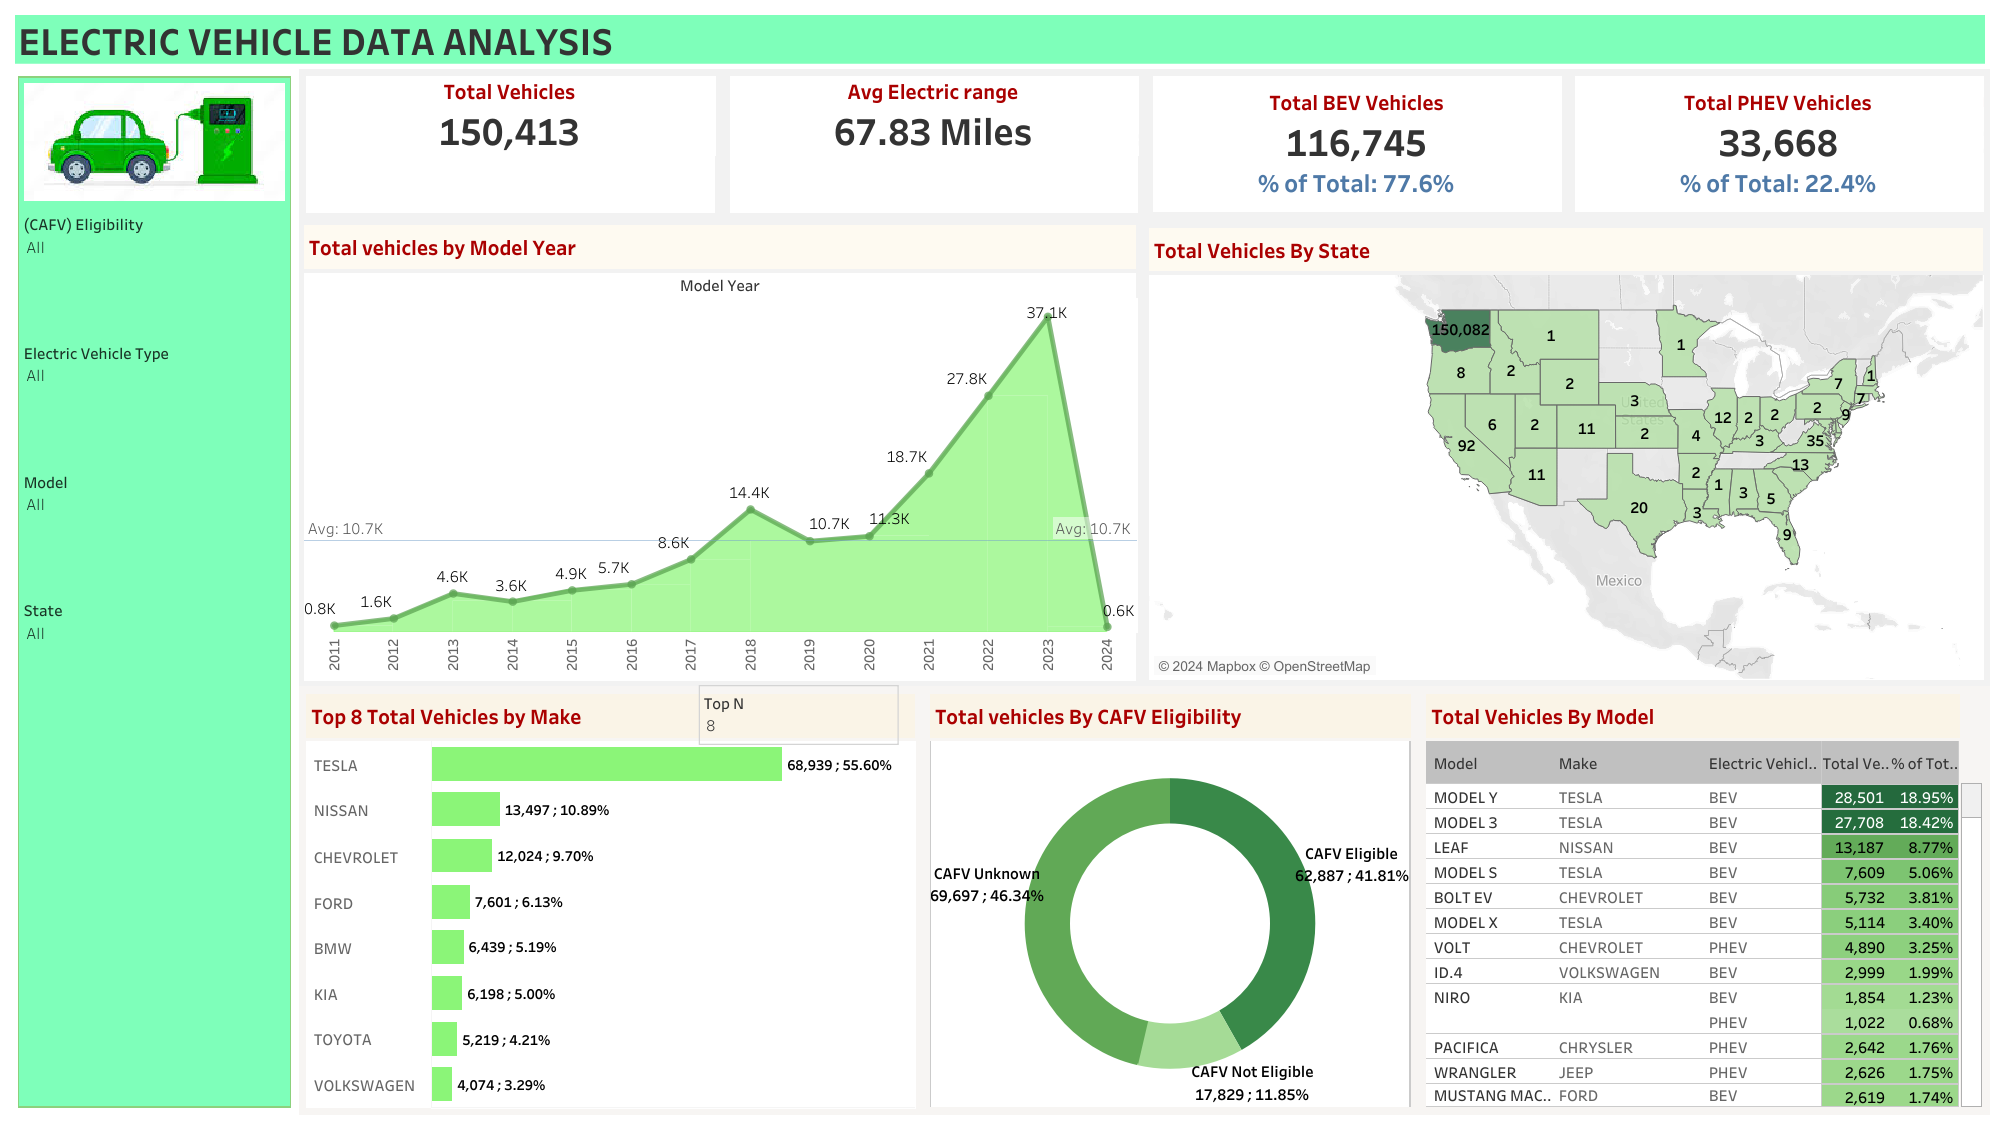

Layout of this report page (visuals, bound fields, positions):
{"tool":"tableau","page":{"name":"Dashboard 3","canvas":[1600,900],"ordinal":0},"visuals":[{"type":"title","box":[8,8,1584,47]},{"type":"worksheet","title":"Total Vehicles","mark":"Automatic","box":[239,55,339,121]},{"type":"worksheet","title":"Avg Electric Range","mark":"Automatic","box":[578,55,338,121]},{"type":"worksheet","title":"Total BEV Vehicles","mark":"Automatic","box":[916,55,338,121]},{"type":"worksheet","title":"Total PHEV Vehicles ","mark":"Automatic","box":[1254,55,338,121]},{"type":"image","param":"C:/Users/lavan/OneDrive/Desktop/images.jpg","box":[15,62,217,103]},{"type":"filter","title":"Total vehicles by Model Year","param":"[federated.1bs2a3f1irxbad13ssojy13eyff1].[none:Clean Alternative Fuel Vehicle (C","box":[15,165,217,103]},{"type":"worksheet","title":"Total vehicles by Model Year","mark":"Area","rows":["Calculation_1498009863934439424","Calculation_1498009863934439424"],"cols":["Model Year"],"box":[239,175.6,674,373.7]},{"type":"worksheet","title":"Total Vehicles By State","mark":"Multipolygon","box":[913,175.6,679,373.7]},{"type":"filter","title":"Total vehicles by Model Year","param":"[federated.1bs2a3f1irxbad13ssojy13eyff1].[none:Electric Vehicle Type:nk]","box":[15,268,217,103]},{"type":"filter","title":"Total vehicles by Model Year","param":"[federated.1bs2a3f1irxbad13ssojy13eyff1].[none:Model:nk]","box":[15,371,217,103]},{"type":"filter","title":"Total vehicles by Model Year","param":"[federated.1bs2a3f1irxbad13ssojy13eyff1].[none:State:nk]","box":[15,474,217,103]},{"type":"parameter","param":"[Parameters].[Parameter 1]","box":[559,548,160,48]},{"type":"worksheet","title":"Top 10 Vehicles by Make","mark":"Automatic","rows":["Make"],"cols":["Calculation_1498009863934439424"],"box":[239,549.2,499,342.8]},{"type":"worksheet","title":"Total vehicles By CAFV Eligibility","mark":"Pie","rows":["Calculation_1116892745839951873","Calculation_1116892745839951873"],"box":[738,549.2,397,342.8]},{"type":"worksheet","title":"Total Vehicles By Model","mark":"Square","rows":["Model","Make","Electric Vehicle Type"],"box":[1135,549.2,457,342.8]},{"type":"blank","box":[15,577,217,103]},{"type":"blank","box":[15,680,217,103]},{"type":"blank","box":[15,783,217,102]}]}

Visuals, with their boxes in screenshot pixels (x1, y1, x2, y2), scaled from the page's 1600x900 canvas onto the 1999x1124 screenshot:
title: l=10, t=10, r=1989, b=69
"Total Vehicles" worksheet: l=299, t=69, r=722, b=220
"Avg Electric Range" worksheet: l=722, t=69, r=1144, b=220
"Total BEV Vehicles" worksheet: l=1144, t=69, r=1567, b=220
"Total PHEV Vehicles " worksheet: l=1567, t=69, r=1989, b=220
image: l=19, t=77, r=290, b=206
"Total vehicles by Model Year" filter: l=19, t=206, r=290, b=335
"Total vehicles by Model Year" worksheet (Area marks): l=299, t=219, r=1141, b=686
"Total Vehicles By State" worksheet (Multipolygon marks): l=1141, t=219, r=1989, b=686
"Total vehicles by Model Year" filter: l=19, t=335, r=290, b=463
"Total vehicles by Model Year" filter: l=19, t=463, r=290, b=592
"Total vehicles by Model Year" filter: l=19, t=592, r=290, b=721
parameter: l=698, t=684, r=898, b=744
"Top 10 Vehicles by Make" worksheet: l=299, t=686, r=922, b=1114
"Total vehicles By CAFV Eligibility" worksheet (Pie marks): l=922, t=686, r=1418, b=1114
"Total Vehicles By Model" worksheet (Square marks): l=1418, t=686, r=1989, b=1114
blank: l=19, t=721, r=290, b=849
blank: l=19, t=849, r=290, b=978
blank: l=19, t=978, r=290, b=1105
